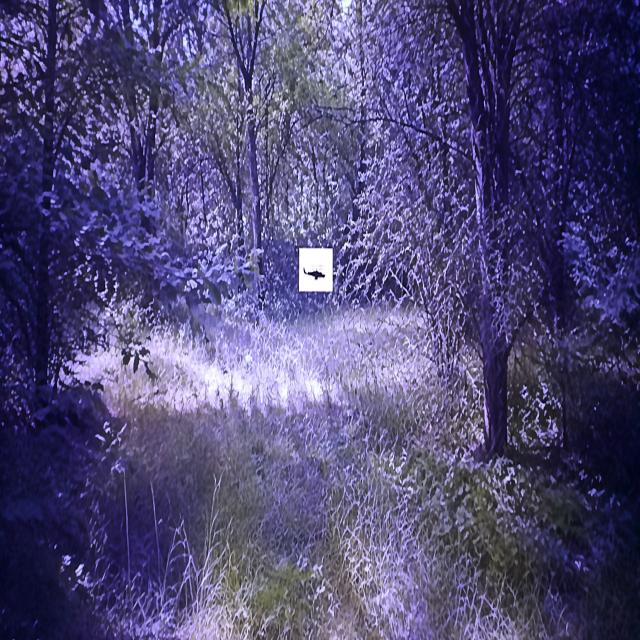Ka-52 Enemy: (304, 265, 324, 279)
